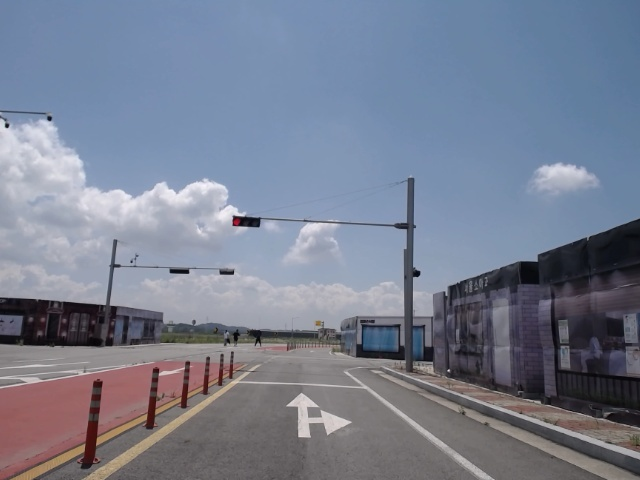red_3: (232, 215, 262, 228)
